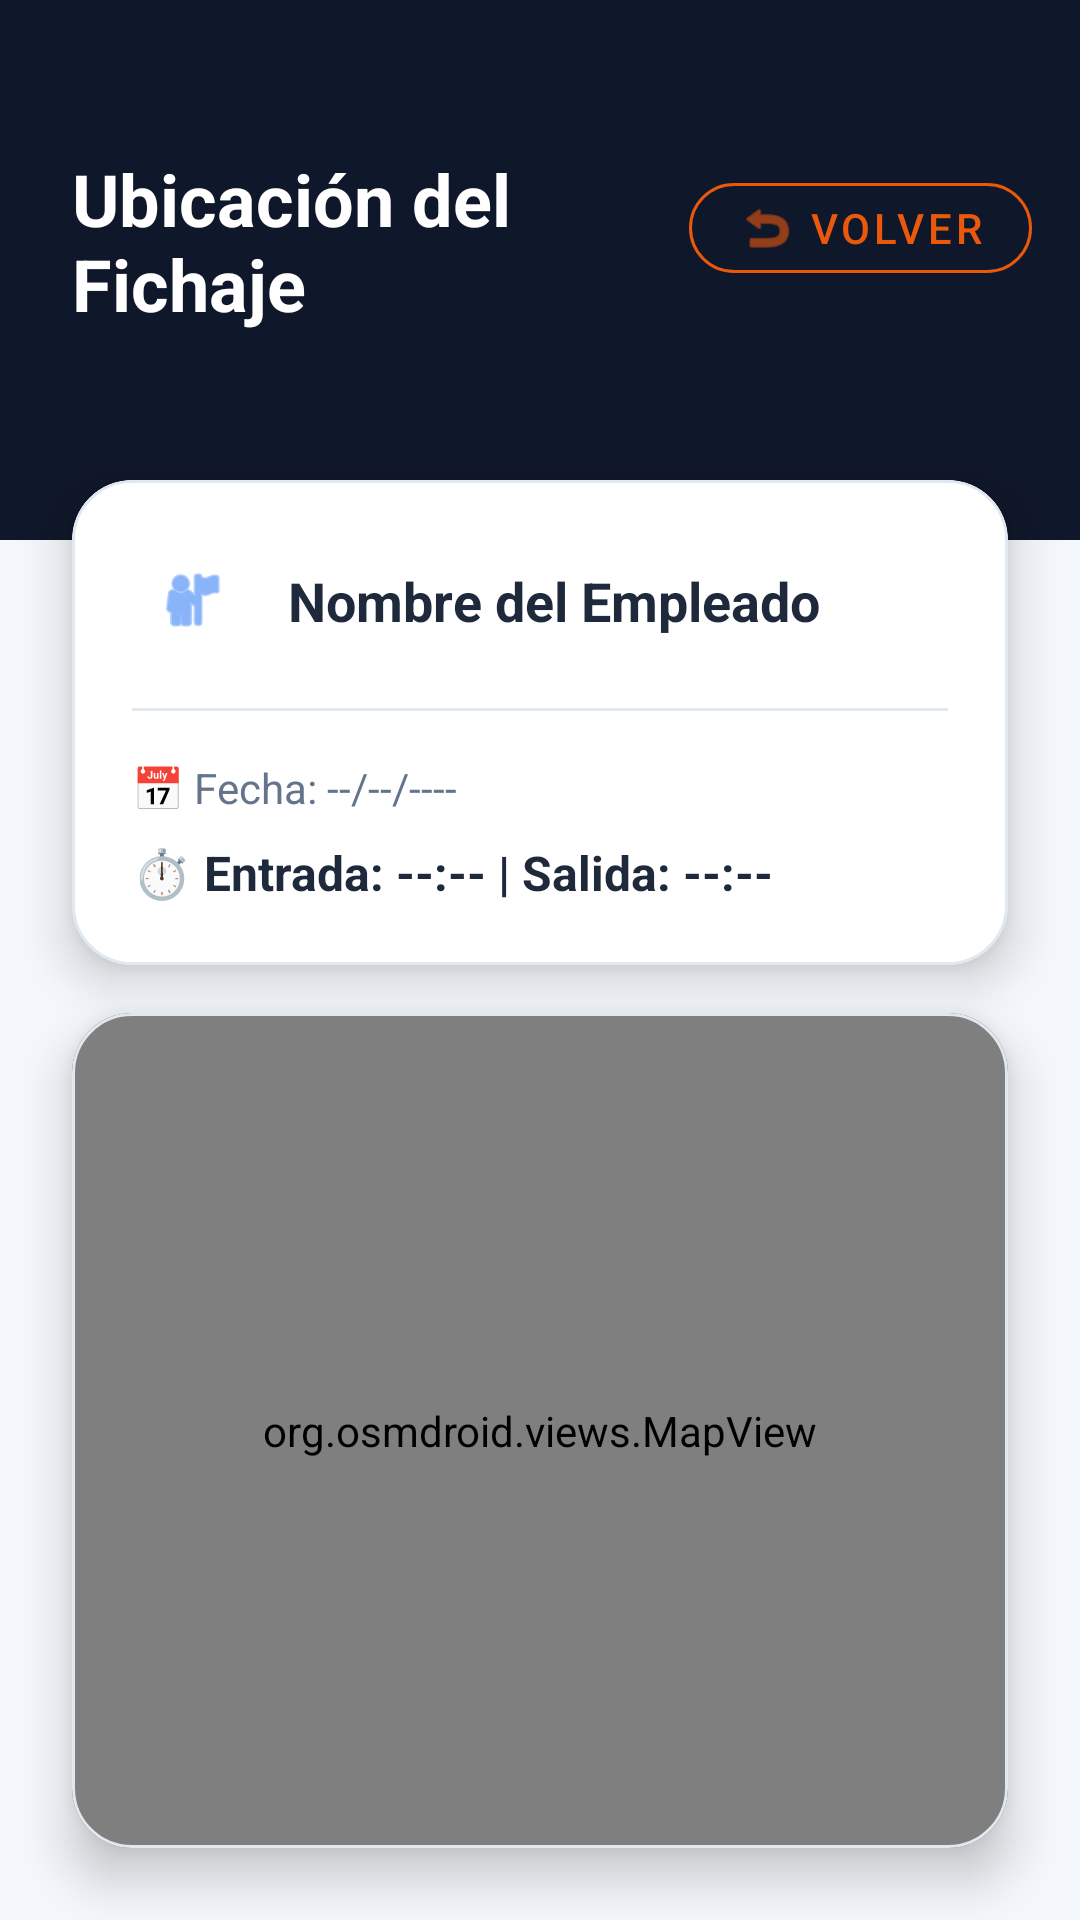

Named icons in this screenshot (1080px×1920px) and their bounding boxes, (x1, y1, x2, y2):
myplaces: (166, 573, 220, 627)
